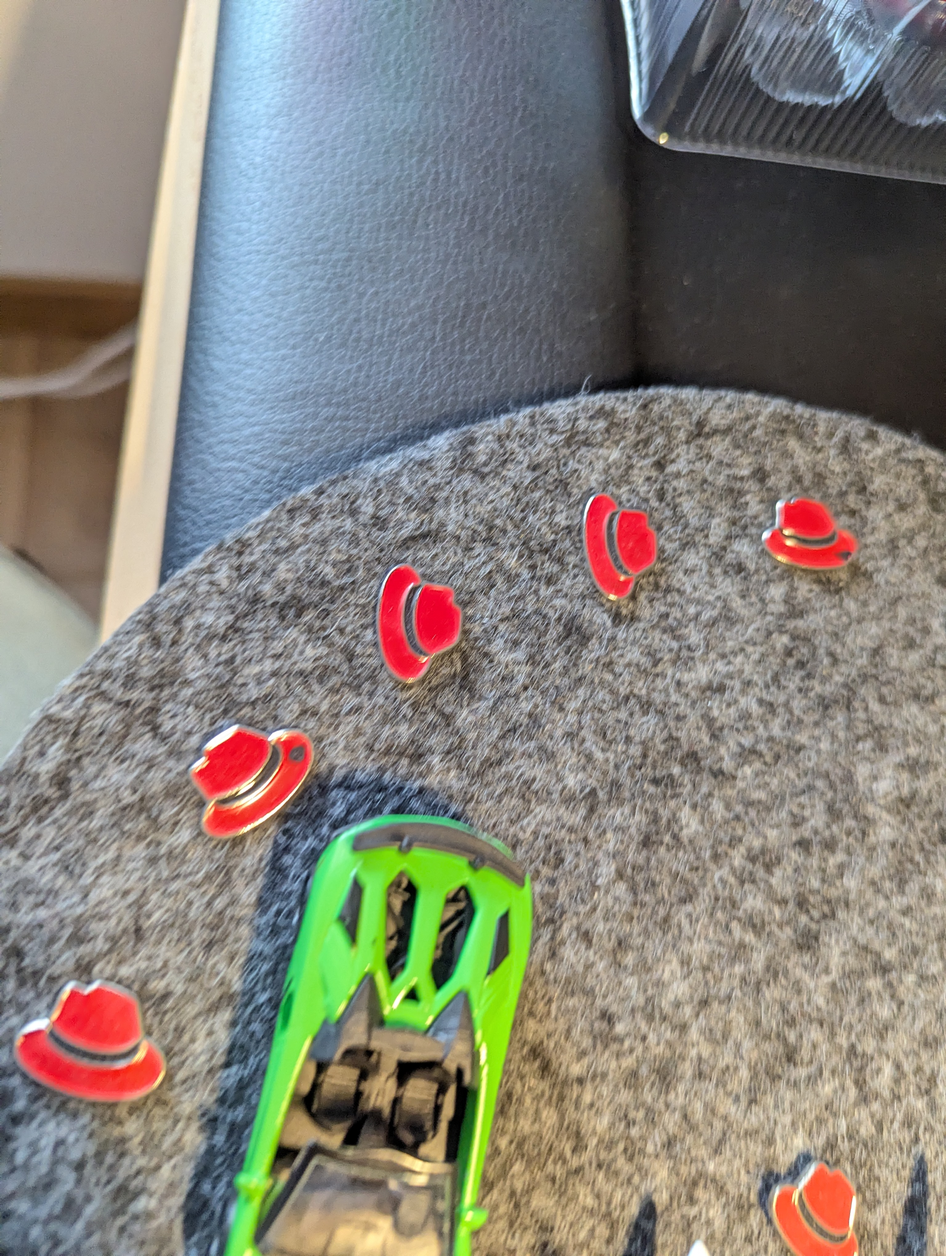Car: (211, 804, 597, 1256)
Red-Hat: (0, 970, 184, 1143), (160, 706, 335, 861), (748, 472, 892, 610), (555, 468, 681, 623), (365, 556, 486, 703), (755, 1138, 874, 1256)
Scratch: (284, 735, 323, 778), (827, 545, 871, 580)
